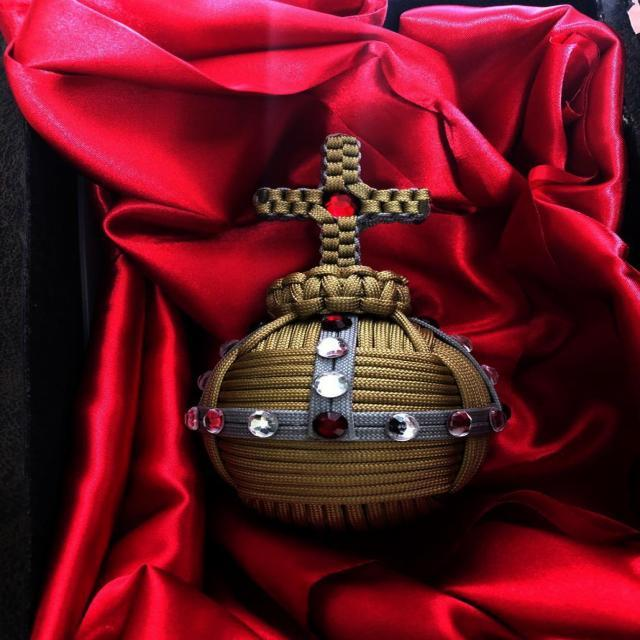Grenade: (186, 131, 502, 533)
